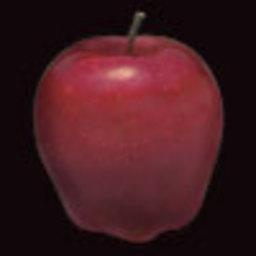apple: (34, 34, 224, 238)
